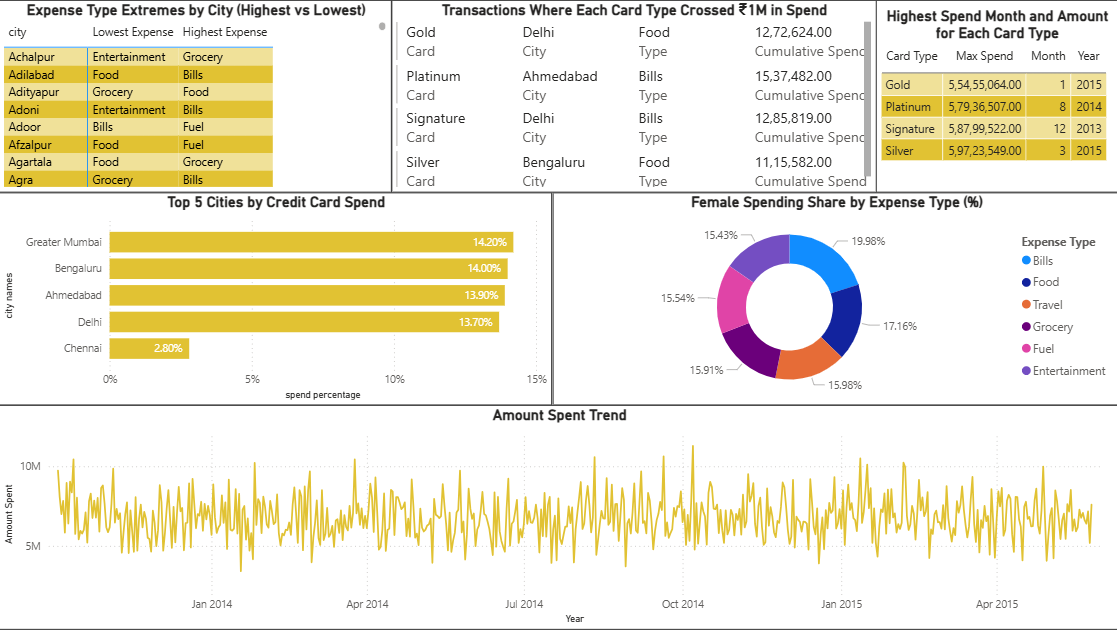

This screenshot's page, from the dashboard's own definition file:
{"tool":"powerbi","page":{"name":"Page 1","canvas":[1280,720],"ordinal":0},"visuals":[{"type":"barChart","title":"Top 5 Cities by Credit Card Spend","fields":{"Y":["Sum(Query1.spend_percentage)"],"Category":["Query1.city"]},"box":[0,220,632.2,243.3],"z":0},{"type":"tableEx","title":"Highest Spend Month and Amount for Each Card Type","fields":{"Values":["Query1.card_type","Query1.Max Spend","Query1.month","Query1.year"]},"box":[1002,0,278,220],"z":1000},{"type":"multiRowCard","title":"Transactions Where Each Card Type Crossed ₹1M in Spend","fields":{"Values":["Query2.card_type","Query2.city","Query2.exp_type","Sum(Query2.running_sum)"]},"box":[448,0,554,220],"z":2000},{"type":"pivotTable","title":"Expense Type Extremes by City (Highest vs Lowest)","fields":{"Rows":["Query3.city"],"Values":["Min(Query3.lowest_expense_type)","Min(Query3.highest_expense_type)"]},"box":[0,0,448.9,220],"z":3000},{"type":"donutChart","title":"Female Spending Share by Expense Type (%)","fields":{"Category":["Query4.exp_type"],"Y":["Sum(Query4.spend_percentage)"]},"box":[632.2,220,647.8,243.3],"z":4000},{"type":"lineChart","title":"Amount Spent Trend ","fields":{"Y":["Sum(Query6.amount)"],"Category":["Query6.transaction_date.Variation.Date Hierarchy.Year","Query6.transaction_date.Variation.Date Hierarchy.Quarter","Query6.transaction_date.Variation.Date Hierarchy.Month","Query6.transaction_date.Variation.Date Hierarchy.Day"]},"box":[0,463.3,1280,256.7],"z":5000}]}

Visuals, with their boxes in screenshot pixels (x1, y1, x2, y2), scaled from the page's 1280x720 canvas onto the 1117x630 screenshot:
"Top 5 Cities by Credit Card Spend" barChart: 0 192 552 405
"Highest Spend Month and Amount for Each Card Type" tableEx: 874 0 1116 192
"Transactions Where Each Card Type Crossed ₹1M in Spend" multiRowCard: 391 0 874 192
"Expense Type Extremes by City (Highest vs Lowest)" pivotTable: 0 0 392 192
"Female Spending Share by Expense Type (%)" donutChart: 552 192 1116 405
"Amount Spent Trend " lineChart: 0 405 1116 629
